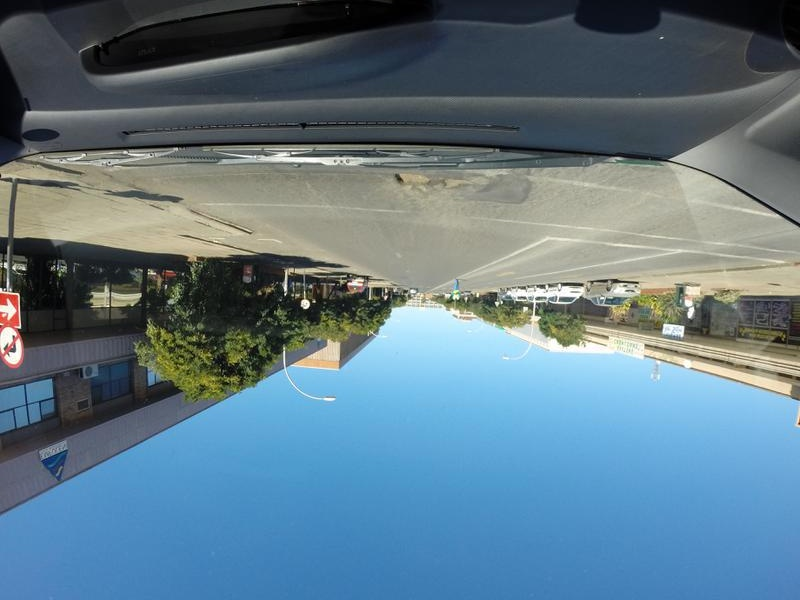pothole: (399, 173, 433, 193), (447, 177, 476, 194)
